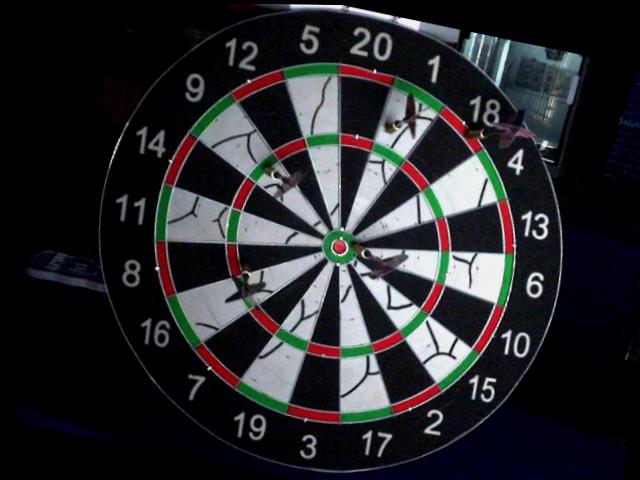bullseye: (319, 230, 360, 265)
double_18: (436, 107, 486, 153)
single_1: (373, 90, 440, 159)
single_8: (237, 233, 322, 285)
triple_9: (246, 150, 278, 185)
